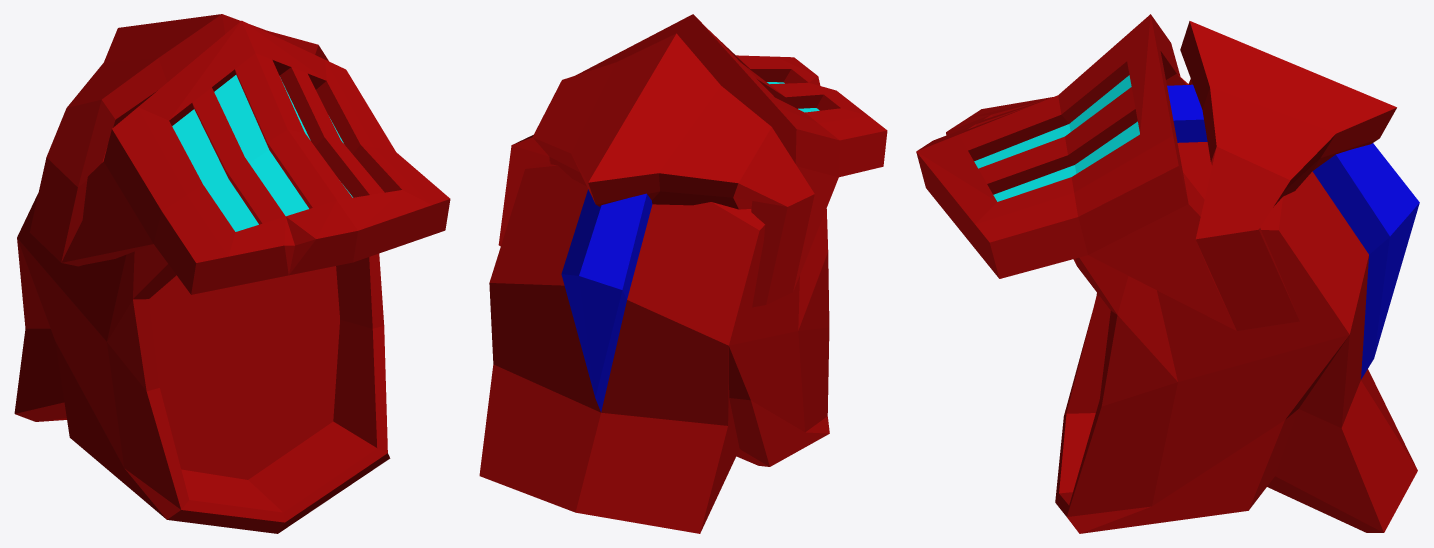
The model's file is Chr_HeadCoverings_NoHair_Static_11.fbx.
The picture shows the model from 3 angles, left to right: view 1: azimuth 30°, elevation 25°; view 2: azimuth 150°, elevation 25°; view 3: azimuth 270°, elevation 25°; orthographic projection. The views are drawn at different scales.
Visible parts, largest first — view 1: Chr_HeadCoverings_No_Hair_11; view 2: Chr_HeadCoverings_No_Hair_11; view 3: Chr_HeadCoverings_No_Hair_11.
Boxes of the visible parts, x1,y1,x2,y2 form: Chr_HeadCoverings_No_Hair_11: (14, 14, 450, 533); Chr_HeadCoverings_No_Hair_11: (479, 14, 887, 533); Chr_HeadCoverings_No_Hair_11: (916, 14, 1419, 533).
Size of the model in its own units: 28.09 by 45.13 by 40.18.
